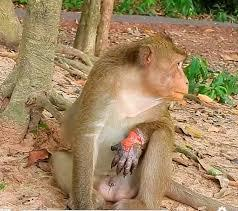cut: (114, 124, 152, 160)
